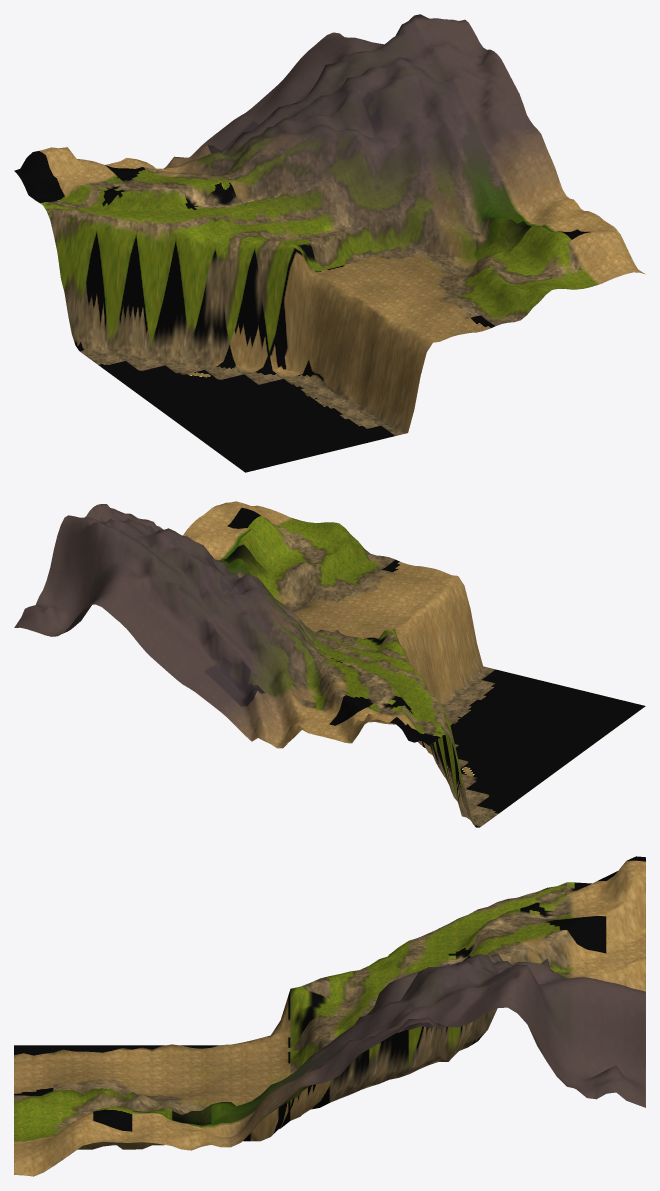
Rendered from terrain.glb.
3 views of the same model, one above another, from view 1: azimuth 30°, elevation 25°; view 2: azimuth 150°, elevation 25°; view 3: azimuth 270°, elevation 25° (orthographic). The views are drawn at different scales.
Parts seen in each view (by area): view 1: terrain_4_0; view 2: terrain_4_0; view 3: terrain_4_0.
Part boxes in pixels (x1,y1,x2,y2): terrain_4_0: [14, 14, 645, 472]; terrain_4_0: [14, 501, 645, 827]; terrain_4_0: [14, 856, 645, 1176].
Size of the model in its own units: 512 by 284 by 512.
1 material, 1 textured.
